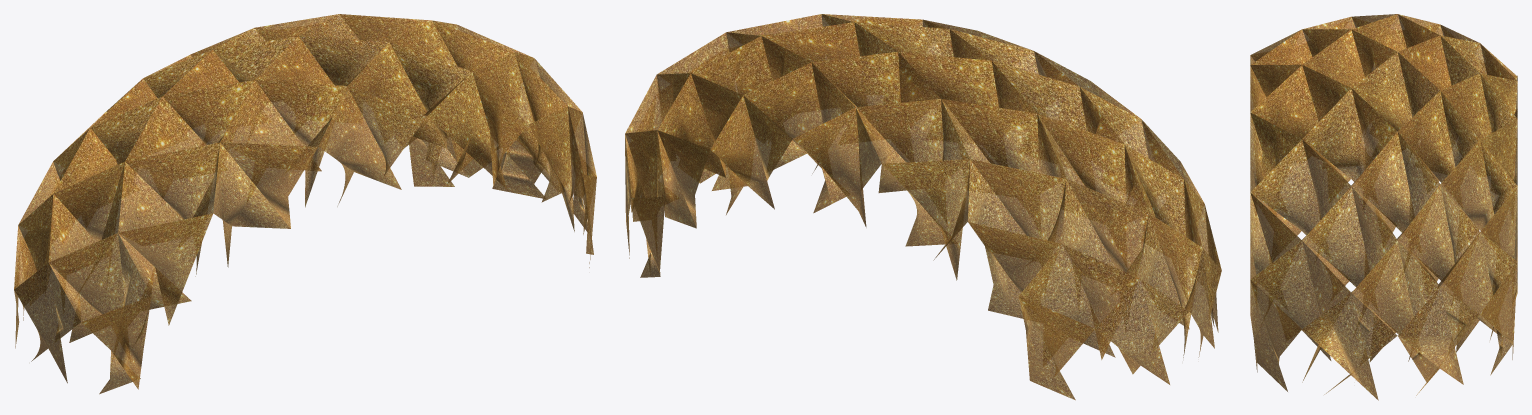
3 renders of one model, left to right at view 1: azimuth 30°, elevation 25°; view 2: azimuth 150°, elevation 25°; view 3: azimuth 270°, elevation 25°, orthographic. The views are drawn at different scales.
Parts seen in each view (by area): view 1: [0]; view 2: [0]; view 3: [0].
Part boxes in pixels (left/top/right/bottom): [0]: left=14, top=14, right=596, bottom=394; [0]: left=625, top=14, right=1221, bottom=400; [0]: left=1250, top=14, right=1517, bottom=400.
Bounding box in the file's own units: 4.58 × 2.02 × 1.99.
Materials: 1 (1 with a texture image).
